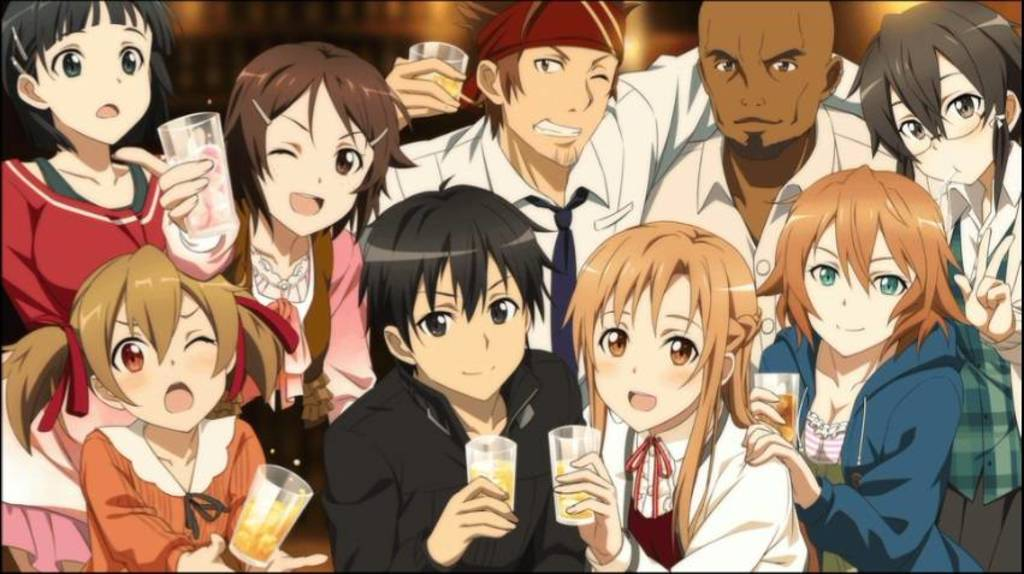Human-face: (37, 0, 998, 431)
